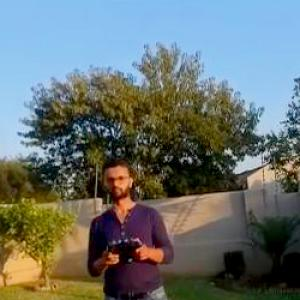follow: (77, 150, 179, 299)
